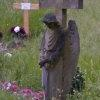Statue: (32, 6, 90, 93)
